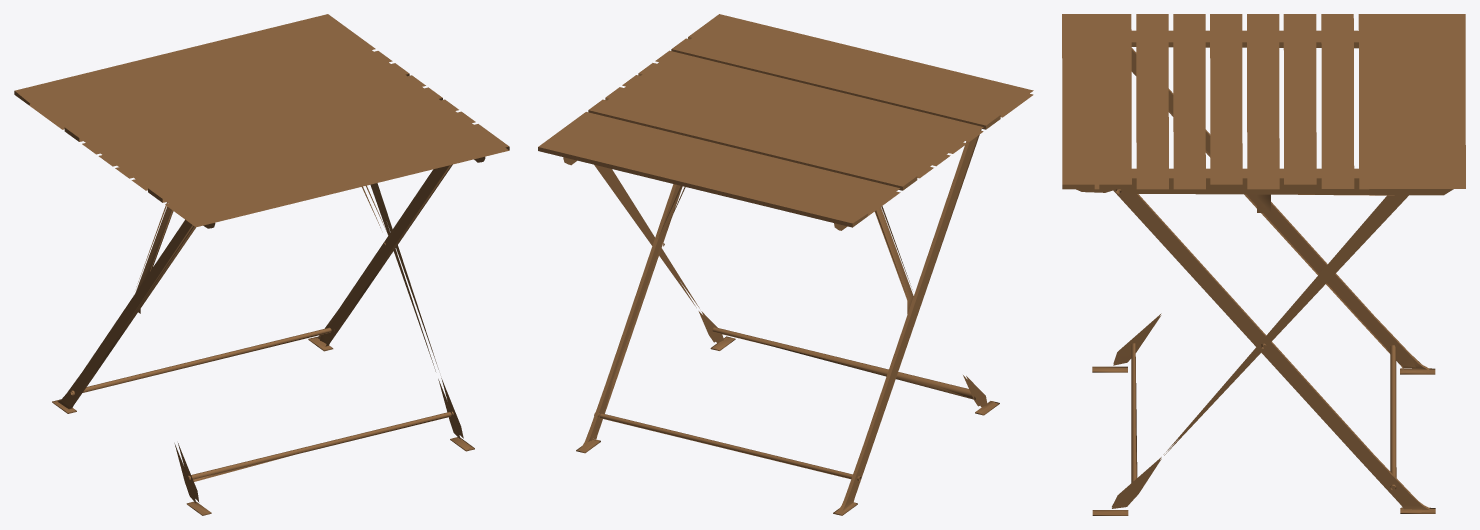
The model's file is B_CafeTable_LOD2.obj.
The picture shows the model from 3 angles, left to right: view 1: azimuth 30°, elevation 25°; view 2: azimuth 150°, elevation 25°; view 3: azimuth 270°, elevation 25°; orthographic projection. The views are drawn at different scales.
Parts seen in each view (by area): view 1: B_CafeTable_m0; view 2: B_CafeTable_m0; view 3: B_CafeTable_m0.
Boxes of the visible parts, left/top/right/bottom form: B_CafeTable_m0: left=14, top=14, right=509, bottom=515; B_CafeTable_m0: left=538, top=14, right=1033, bottom=515; B_CafeTable_m0: left=1062, top=14, right=1465, bottom=515.
Bounding box in the file's own units: 0.9009 × 0.8434 × 0.901.
